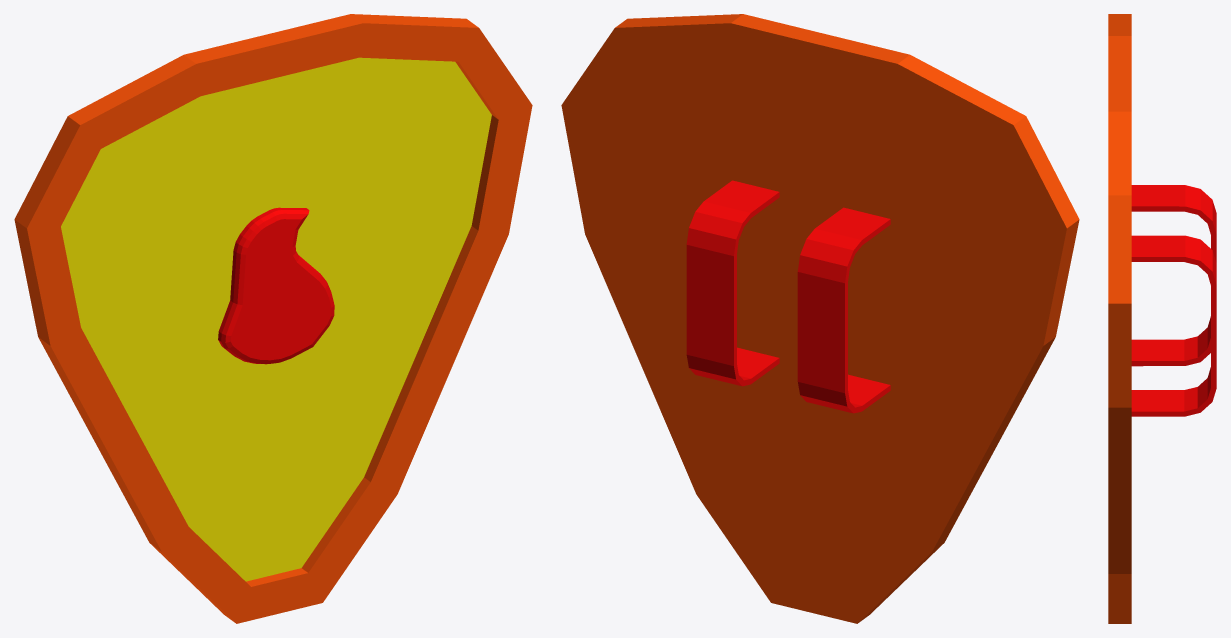
File: Fire Shield.fbx
3 renders of one model, left to right at view 1: azimuth 30°, elevation 25°; view 2: azimuth 150°, elevation 25°; view 3: azimuth 270°, elevation 25°, orthographic. The views are drawn at different scales.
Parts seen in each view (by area): view 1: Shiled, Shield Logo; view 2: Shiled, Shield Holders; view 3: Shiled, Shield Holders.
Part boxes in pixels (x1,y1,x2,y2): Shiled: (14,14,532,623); Shield Logo: (218,207,334,364); Shiled: (561,14,1079,623); Shield Holders: (686,180,890,413); Shiled: (1108,14,1131,623); Shield Holders: (1131,185,1216,416).
Bounding box in the file's own units: 91.25 × 98.3 × 18.24.
